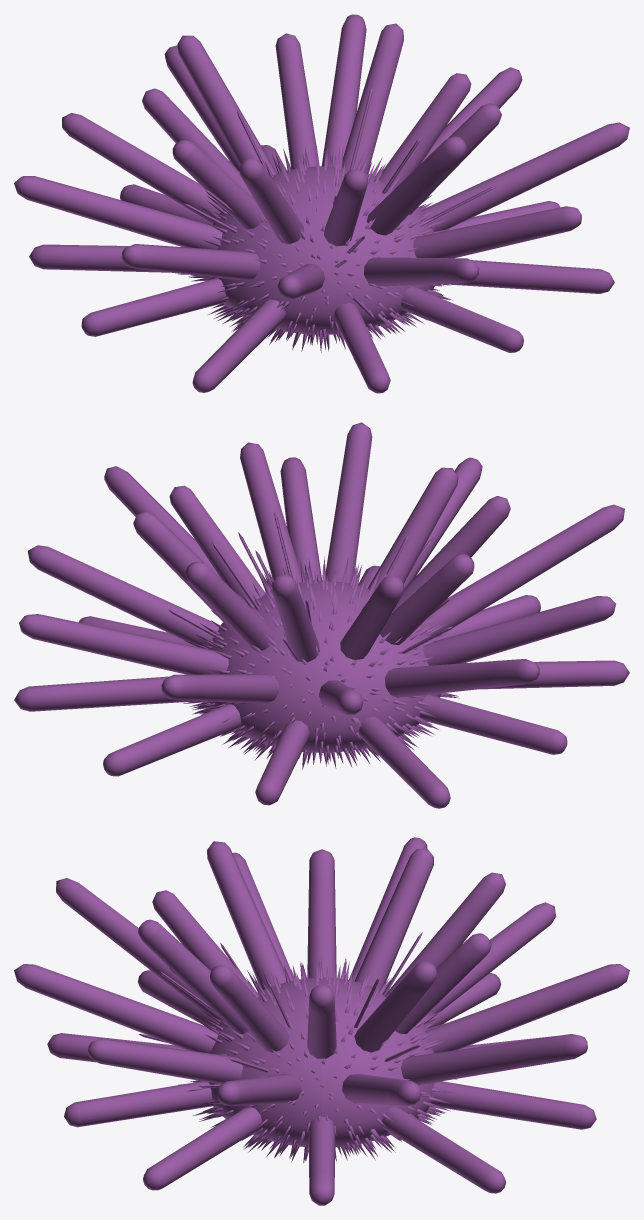
The model's file is sea_urchin_slate_pencil.glb.
3 renders of one model, top to bottom at view 1: azimuth 30°, elevation 25°; view 2: azimuth 150°, elevation 25°; view 3: azimuth 270°, elevation 25°, orthographic. The views are drawn at different scales.
Parts seen in each view (by area): view 1: sea_urchin_slate_pencil; view 2: sea_urchin_slate_pencil; view 3: sea_urchin_slate_pencil.
Part boxes in pixels (x1,y1,x2,y2): sea_urchin_slate_pencil: (14,14,629,393); sea_urchin_slate_pencil: (14,422,629,808); sea_urchin_slate_pencil: (14,837,629,1205).
Size of the model in its own units: 0.1708 by 0.0755 by 0.1738.
